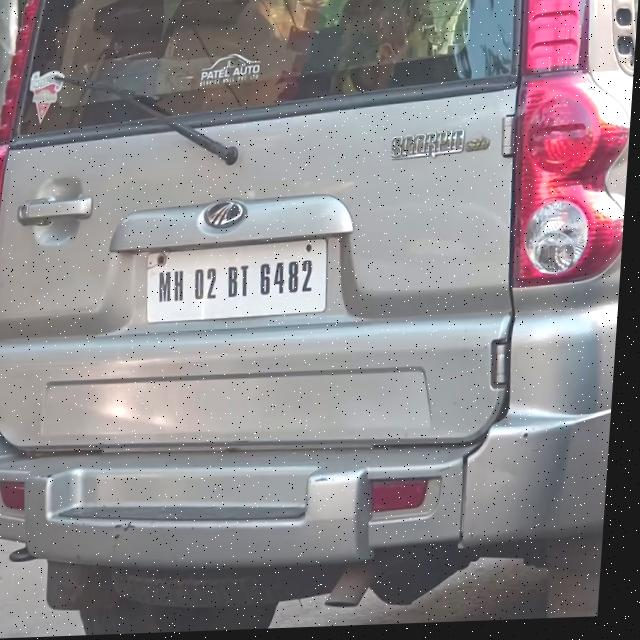plate: (146, 239, 335, 324)
